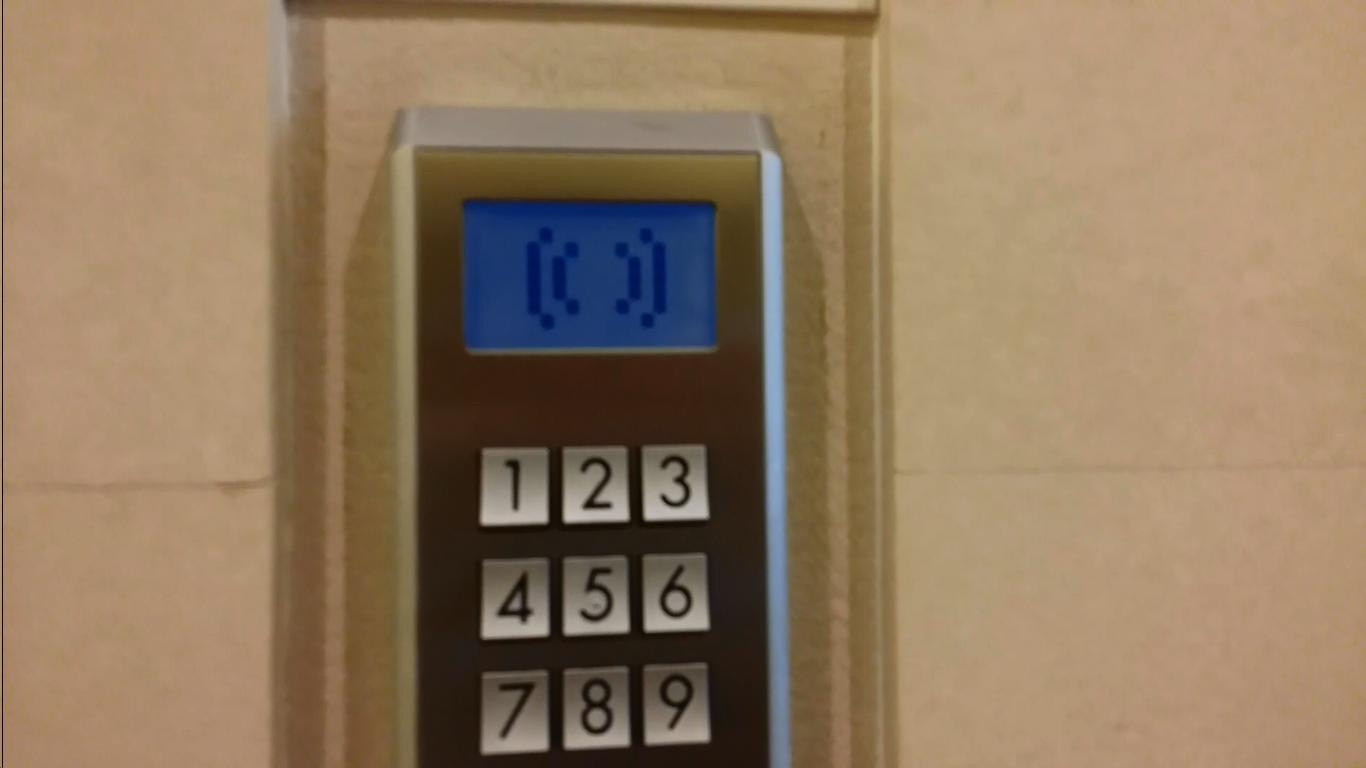1: (475, 440, 554, 529)
2: (559, 442, 633, 527)
3: (636, 439, 712, 525)
4: (475, 552, 554, 643)
5: (560, 551, 632, 639)
6: (639, 548, 715, 636)
7: (476, 665, 552, 756)
8: (557, 662, 634, 752)
9: (638, 658, 714, 749)
led: (453, 193, 719, 359)
